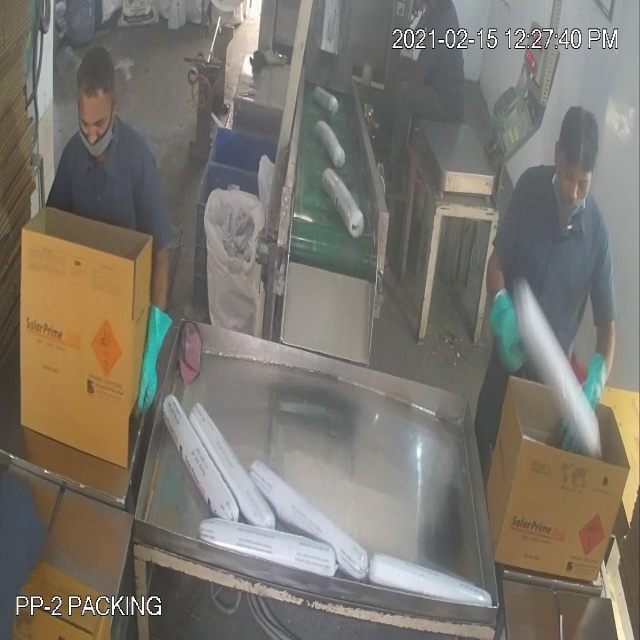Guantes: (124, 269, 180, 440), (486, 266, 530, 387)
Sin_guantes: (386, 60, 430, 102)
